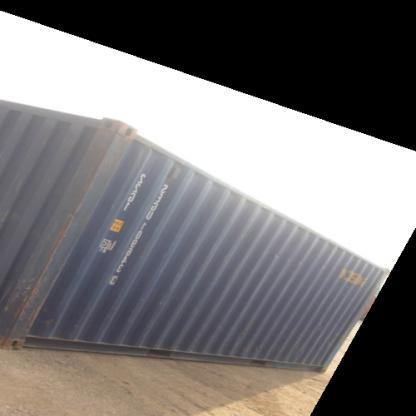Damage: (3, 262, 48, 338), (48, 191, 85, 255), (249, 242, 306, 268)
